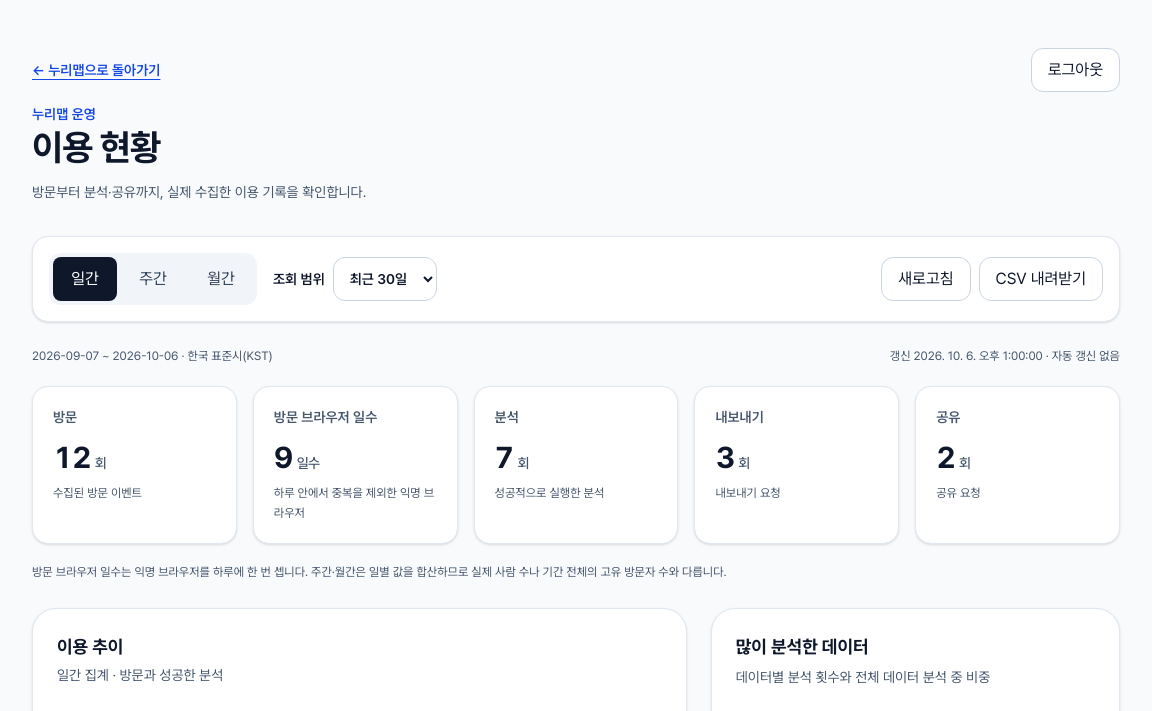
Scenario: UsageDashboard › changes aggregation and range, then refreshes only when requested
Later steps or results of the test are not shown.
Expected: the heading "방문 브라우저 일수" is shown, [274, 409, 377, 425]
Click the button "주간": (153, 279) [121, 257, 185, 301]
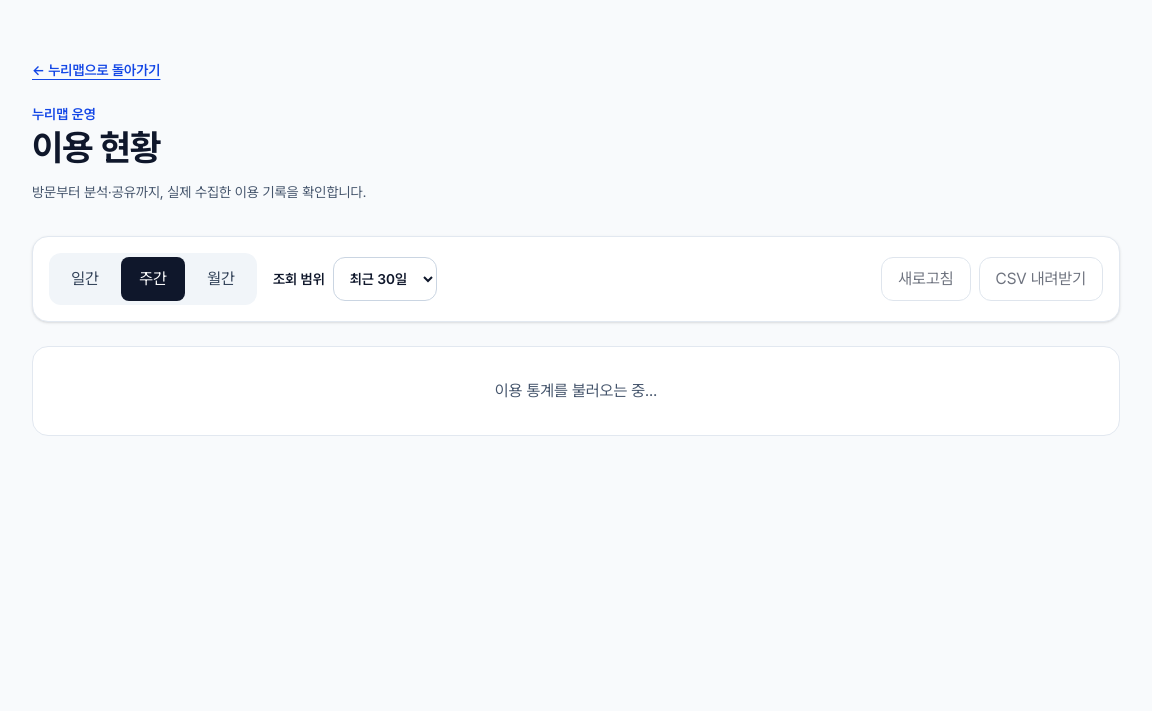
Select "최근 90일" in the dropdown labelled "조회 범위": (385, 279) [333, 257, 437, 301]
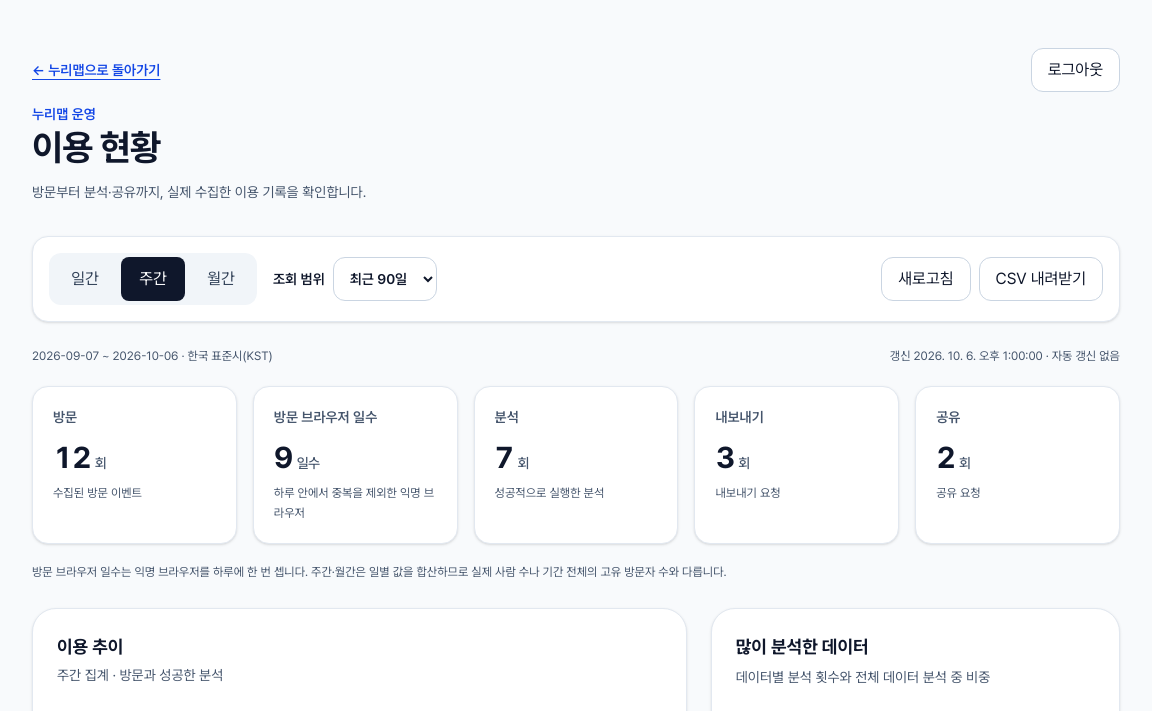
Expected: the button "새로고침" is enabled, [881, 257, 970, 301]
